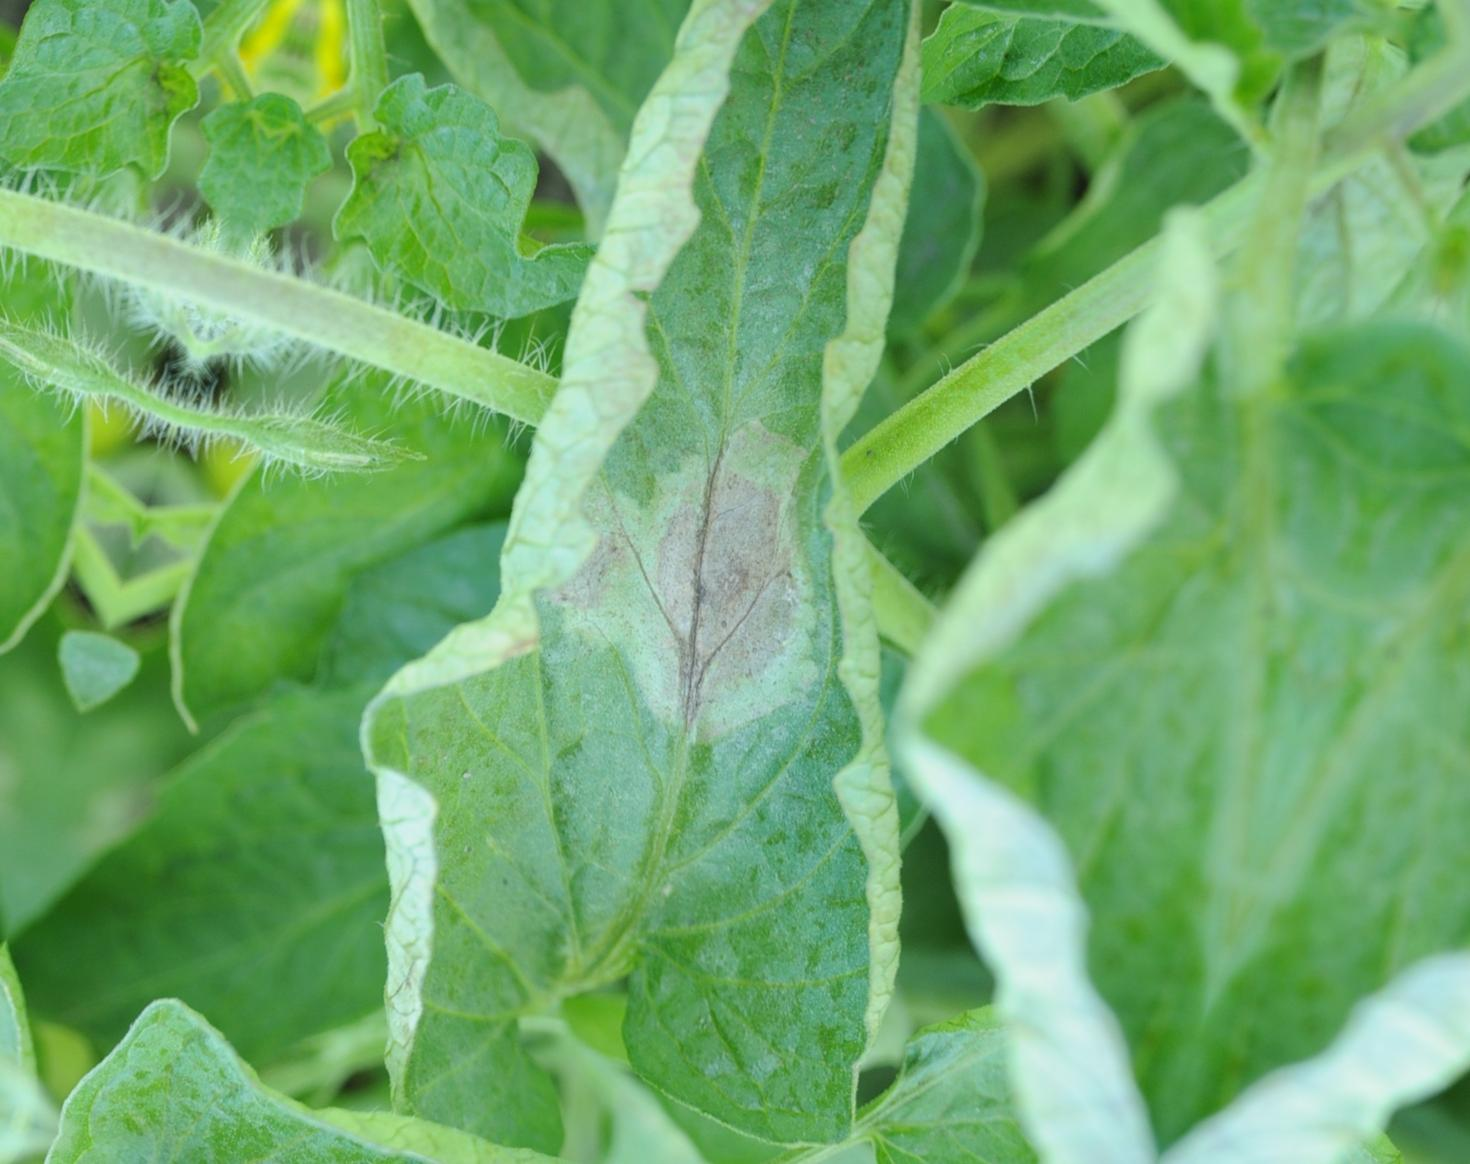Tomato leaf late blight: (320, 0, 1211, 1164)
